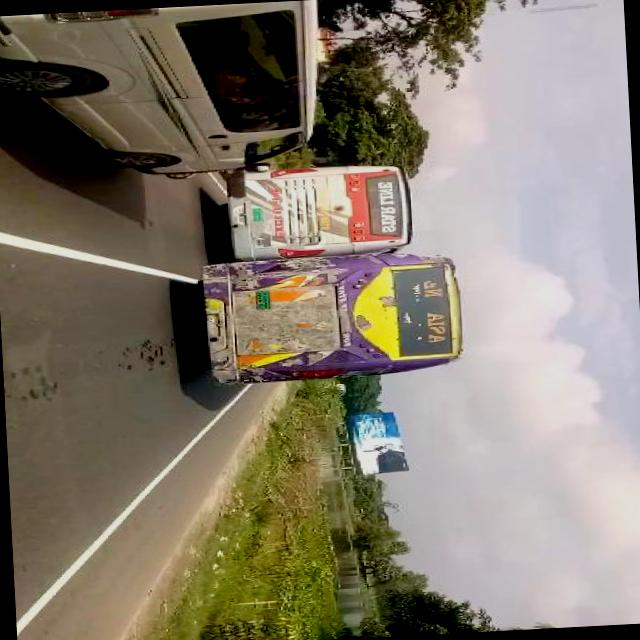bus: (201, 250, 469, 387), (218, 161, 420, 259)
truck: (0, 1, 321, 191)
